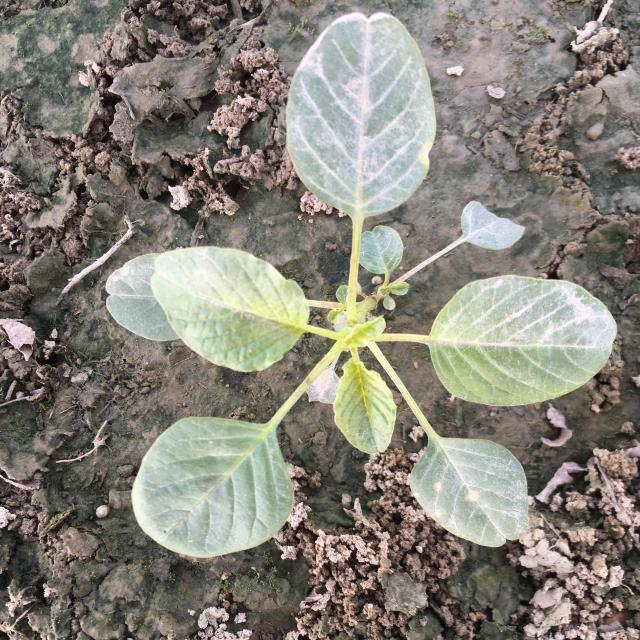PalmerAmaranth: (105, 12, 618, 558)
